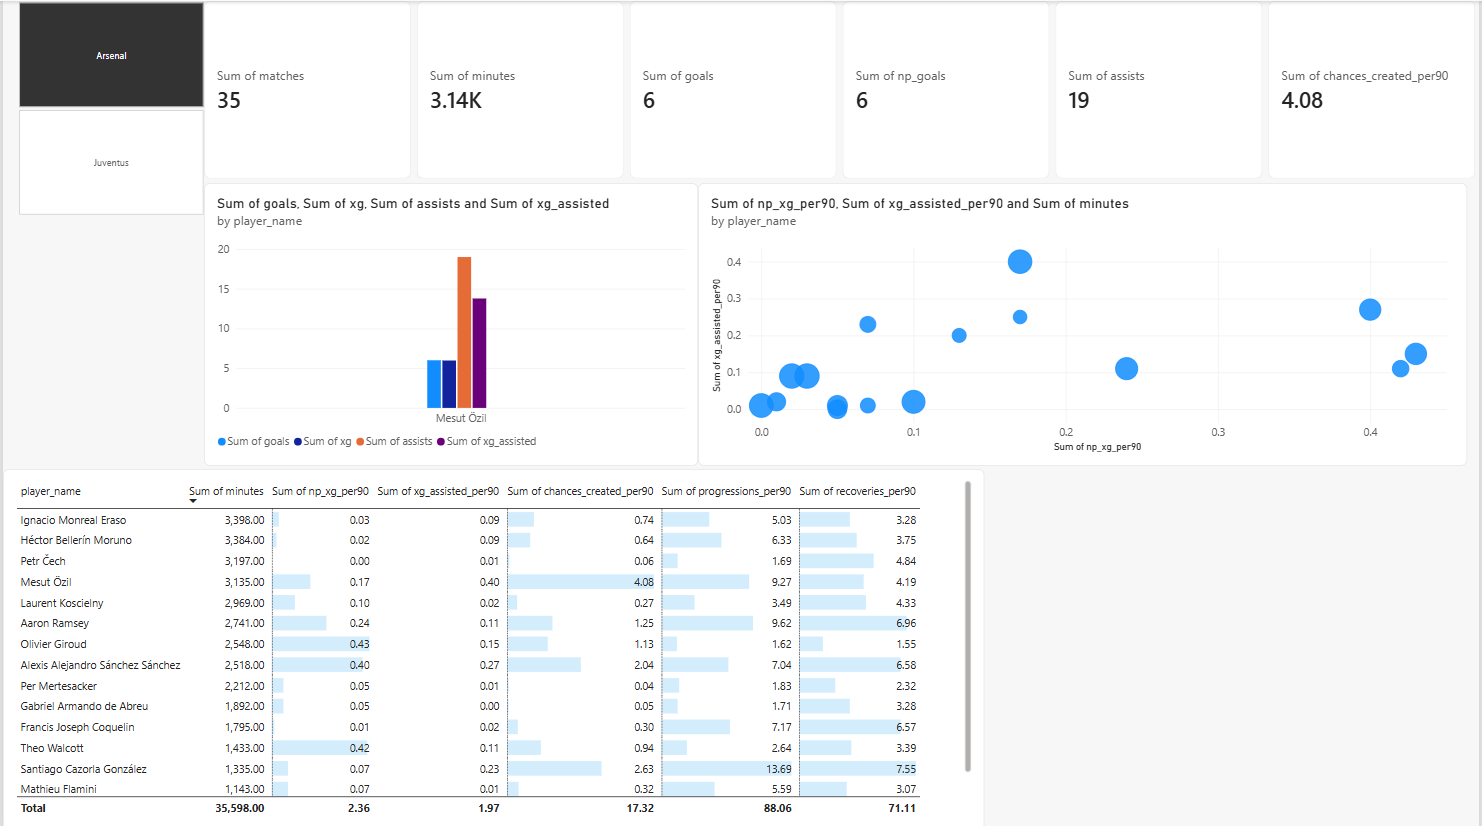

Layout of this report page (visuals, bound fields, positions):
{"tool":"powerbi","page":{"name":"Player Impact","canvas":[1920,1080],"ordinal":2},"visuals":[{"type":"slicer","fields":{"Values":["Teams.team"]},"box":[0,0,280,280],"z":0},{"type":"cardVisual","fields":{"Data":["Sum(player_stats.matches)","Sum(player_stats.minutes)","Sum(player_stats.goals)","Sum(player_stats.np_goals)","Sum(player_stats.assists)","Sum(player_stats.chances_created_per90)"]},"box":[261.2,0,1658.8,232],"z":1000},{"type":"clusteredColumnChart","fields":{"Category":["player_stats.player_name"],"Y":["Sum(player_stats.goals)","Sum(player_stats.xg)","Sum(player_stats.assists)","Sum(player_stats.xg_assisted)"]},"box":[261.2,236.4,643.4,367.7],"z":2000},{"type":"scatterChart","fields":{"Category":["player_stats.player_name"],"Size":["Sum(player_stats.minutes)"],"X":["Sum(player_stats.np_xg_per90)"],"Y":["Sum(player_stats.xg_assisted_per90)"]},"box":[904.8,236.4,1000.7,367.7],"z":3000},{"type":"tableEx","fields":{"Values":["player_stats.player_name","Sum(player_stats.minutes)","Sum(player_stats.np_xg_per90)","Sum(player_stats.xg_assisted_per90)","Sum(player_stats.chances_created_per90)","Sum(player_stats.progressions_per90)","Sum(player_stats.recoveries_per90)"]},"box":[0,608.4,1276.6,471.2],"z":4000}]}

Visuals, with their boxes in screenshot pixels (x1, y1, x2, y2), scaled from the page's 1920x1080 canvas onto the 1482x826 screenshot:
slicer - Teams.team: 0 0 216 214
cardVisual - Sum(player_stats.matches) x Sum(player_stats.minutes): 202 0 1481 177
clusteredColumnChart - player_stats.player_name x Sum(player_stats.goals): 202 181 698 462
scatterChart - player_stats.player_name x Sum(player_stats.minutes): 698 181 1471 462
tableEx - player_stats.player_name x Sum(player_stats.minutes): 0 465 985 825
